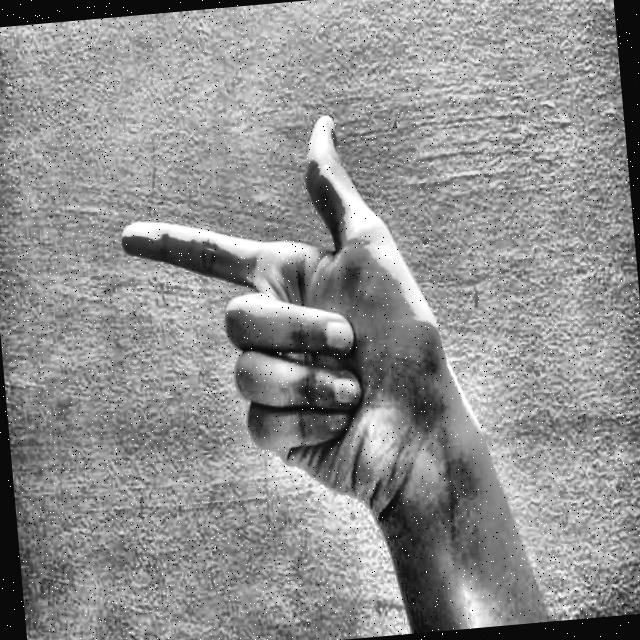Tho: (84, 70, 532, 548)
